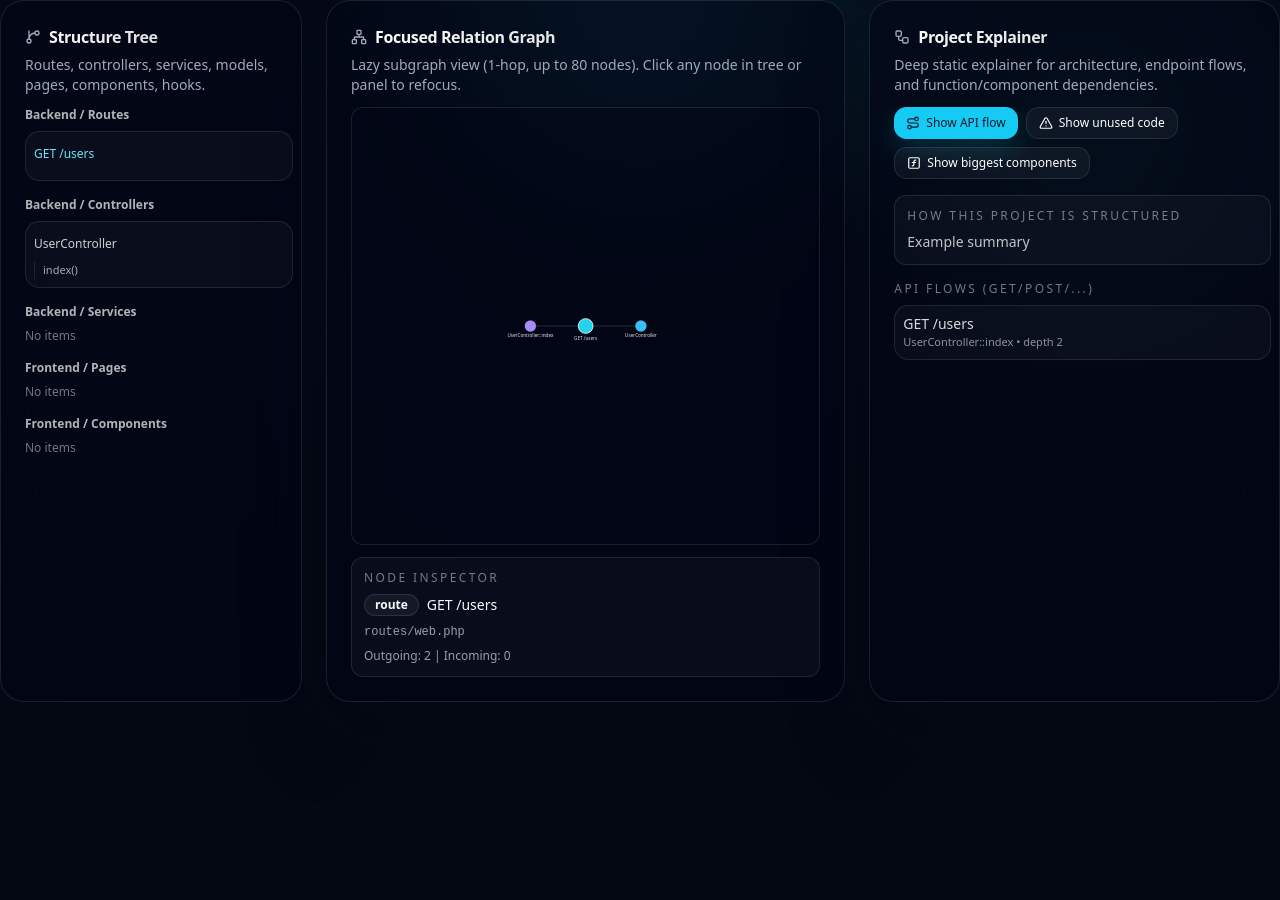
Test: ProjectIntelligenceMapPanel › switches guided chips and shows corresponding section
The image size is (1280, 900).
Check: the heading "Project Explainer" is shown, box [894,25,1255,49]
Step 1. Click the button "Show unused code" → (1102, 123), box [1026,107,1178,139]
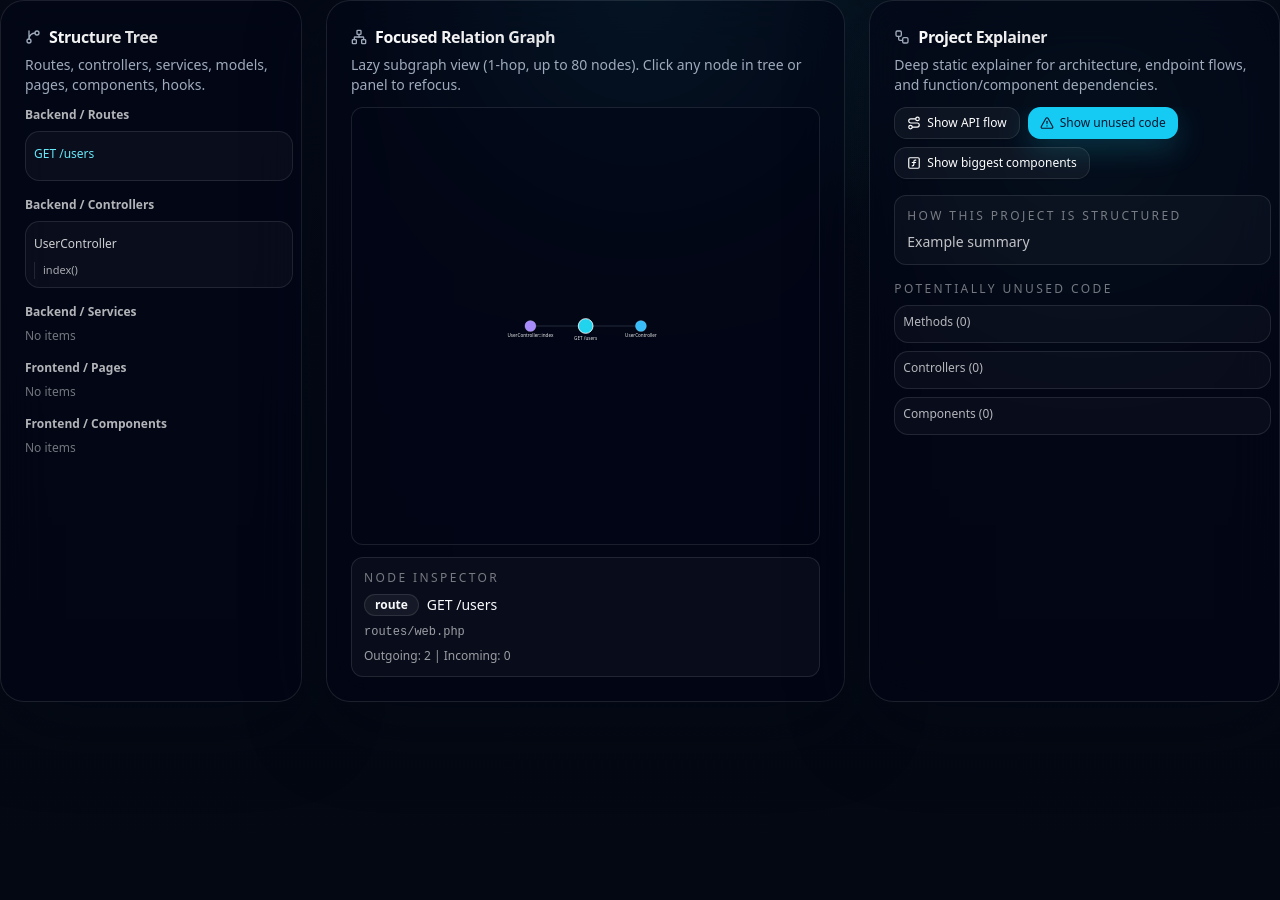
Check: the text "Potentially unused code" is shown, box [894,280,1113,297]
Step 2. Click the button "Show biggest components" → (992, 163), box [894,147,1090,179]
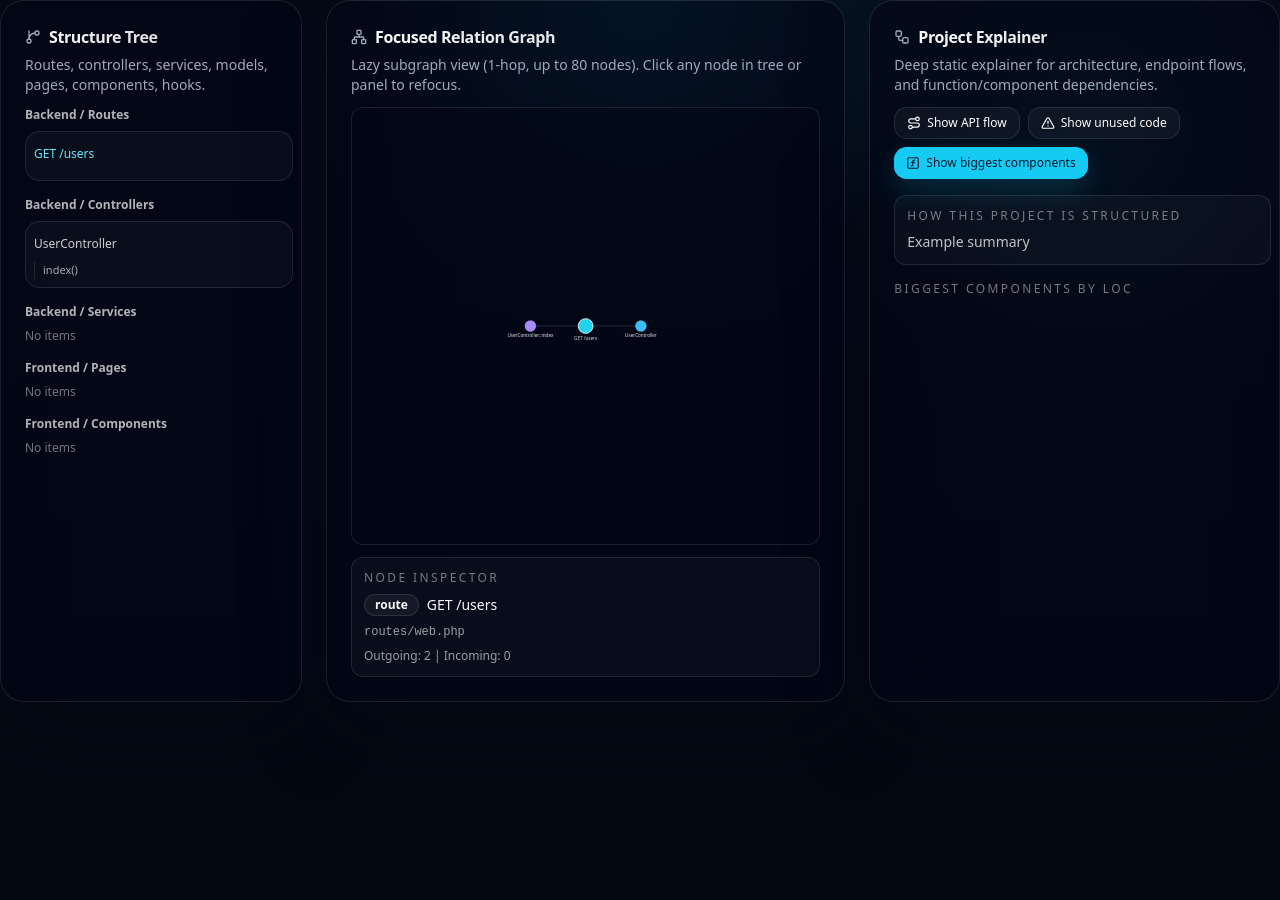
Check: the text "Biggest components by LOC" is shown, box [894,280,1133,297]
